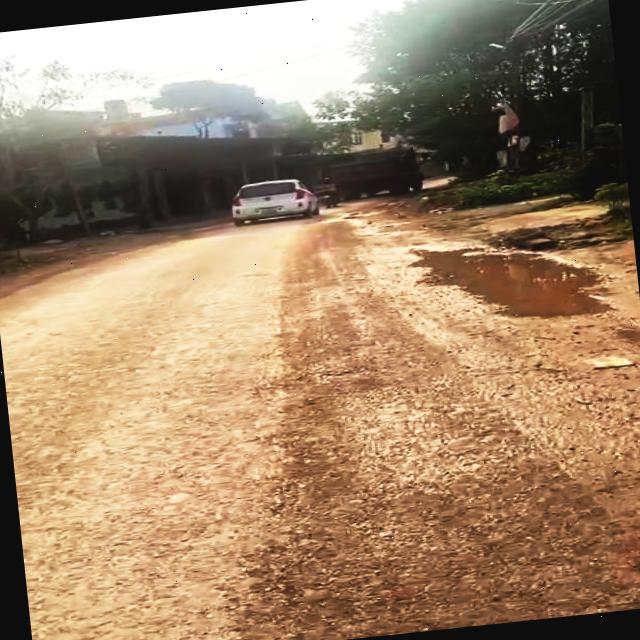pothole: (409, 228, 620, 334)
